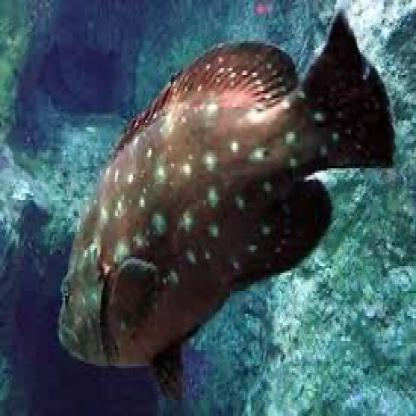grouper: (53, 4, 416, 413)
